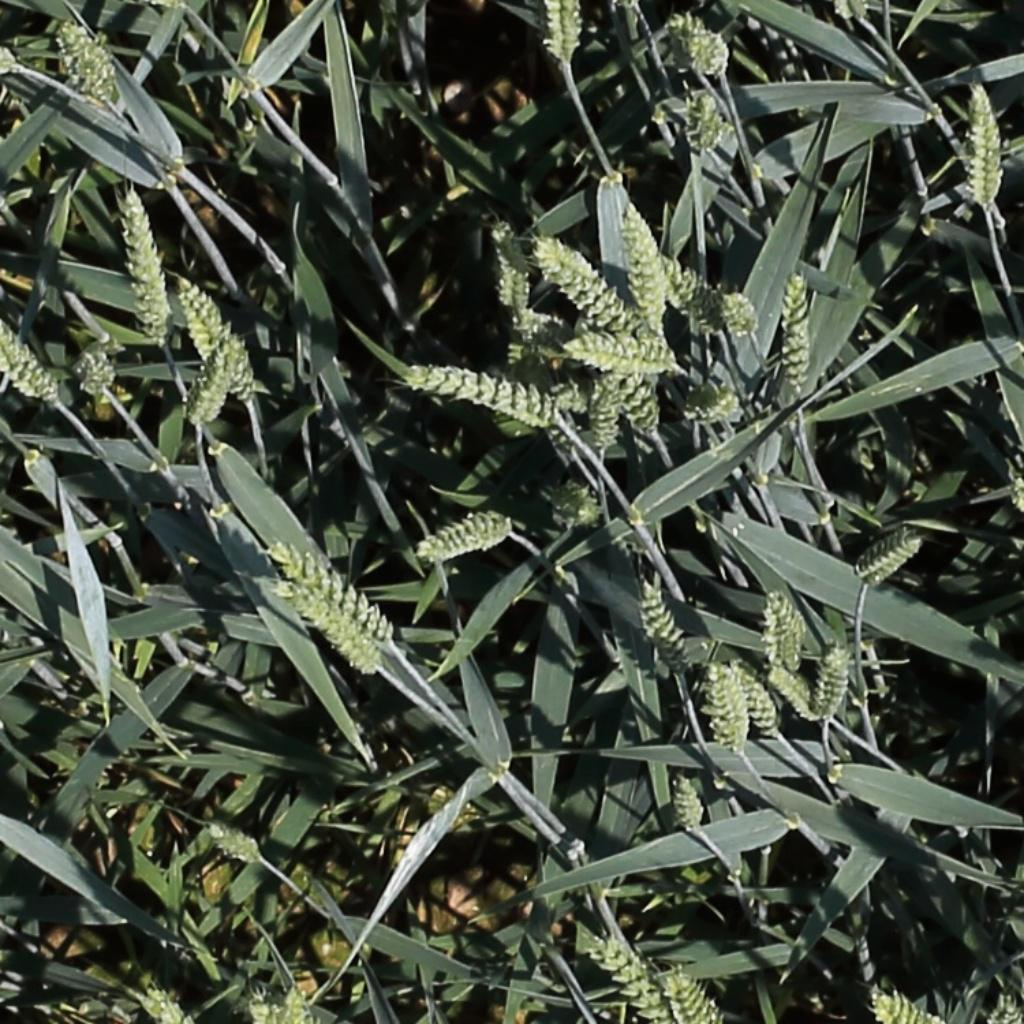0-0: (391, 351, 568, 438), (267, 540, 397, 641), (173, 271, 257, 408), (537, 236, 645, 335), (286, 584, 383, 677), (584, 929, 673, 1021), (121, 182, 170, 345), (614, 198, 669, 335), (412, 505, 520, 565), (656, 252, 733, 329), (480, 217, 535, 322), (0, 309, 60, 402), (638, 577, 693, 678), (965, 80, 1006, 213), (54, 19, 118, 103), (729, 659, 787, 744), (777, 268, 811, 407), (191, 333, 238, 431), (670, 9, 729, 79), (567, 331, 677, 368), (855, 532, 924, 590), (767, 588, 813, 673), (613, 363, 664, 439), (709, 662, 748, 759), (664, 968, 728, 1024), (767, 664, 823, 722), (540, 0, 583, 73), (817, 640, 853, 727), (762, 584, 794, 679), (873, 988, 949, 1024), (679, 379, 744, 421), (593, 367, 621, 460), (720, 285, 763, 342), (547, 483, 602, 527), (245, 996, 324, 1024), (674, 771, 705, 839), (693, 86, 724, 154), (144, 984, 187, 1024), (282, 977, 308, 1024), (991, 985, 1021, 1024), (1003, 468, 1024, 520), (834, 1, 864, 31), (0, 45, 12, 70)
